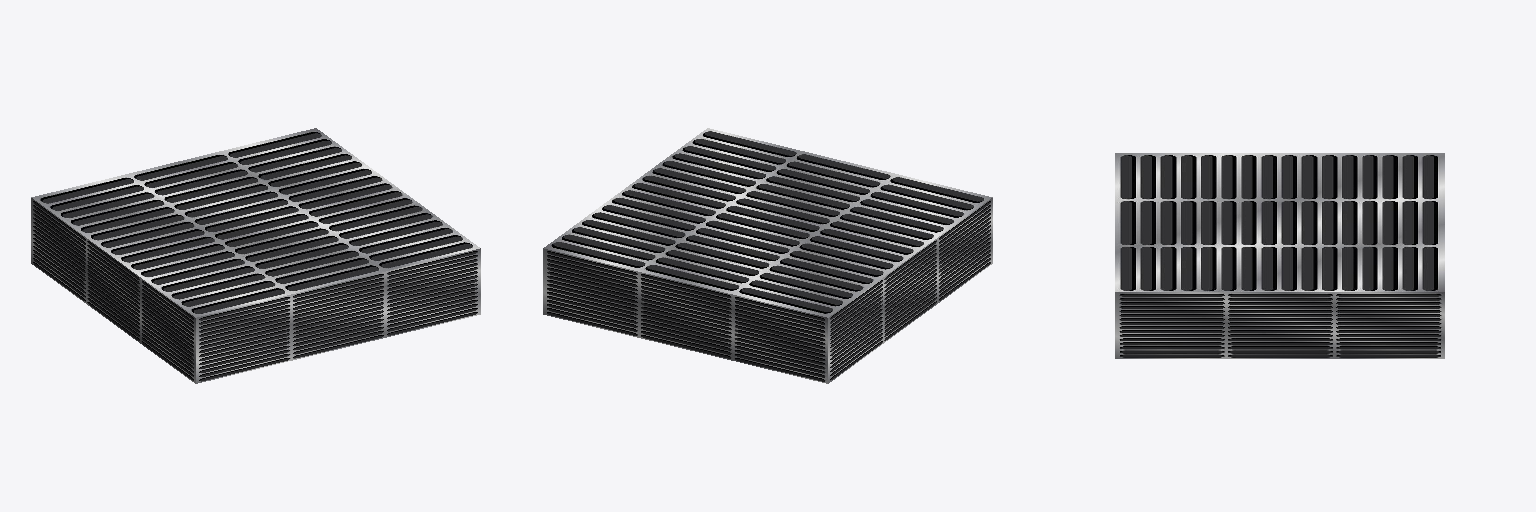
3 renders of one model, left to right at view 1: azimuth 30°, elevation 25°; view 2: azimuth 150°, elevation 25°; view 3: azimuth 270°, elevation 25°, orthographic.
Visible parts, largest first — view 1: Box162; view 2: Box162; view 3: Box162.
Part boxes in pixels (left/top/right/bottom): Box162: left=31, top=128, right=480, bottom=383; Box162: left=543, top=128, right=992, bottom=383; Box162: left=1115, top=153, right=1444, bottom=358.
Bounding box in the file's own units: 4.5 × 1 × 4.5.
Materials: 1 (1 with a texture image).